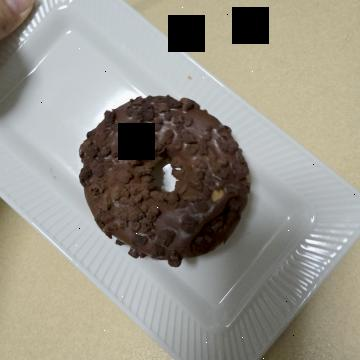doughnut: (84, 90, 280, 278)
